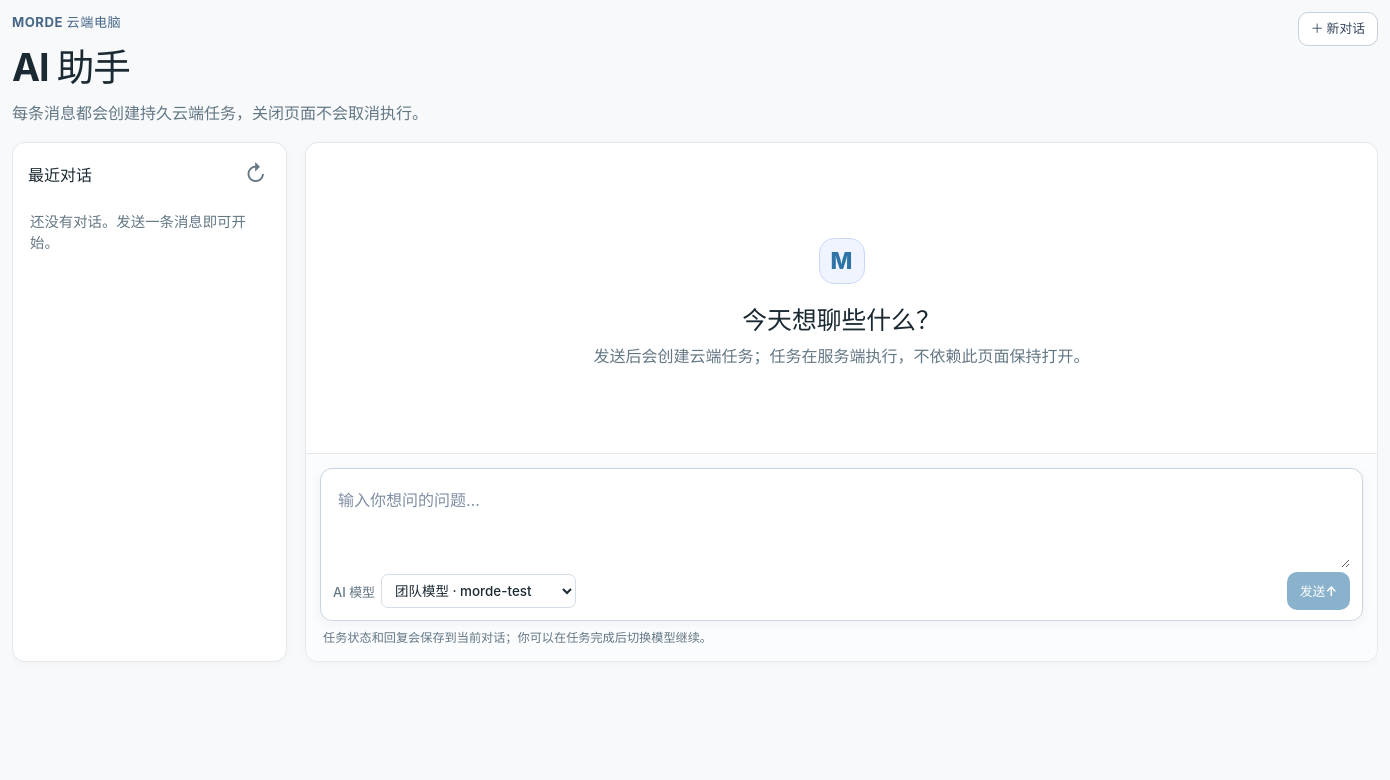
Test case: Assistant durable tasks › submits a durable task and displays its saved conversation reply
Type "你好" into the text box named "消息内容" at (842, 524), box [333, 480, 1350, 568]
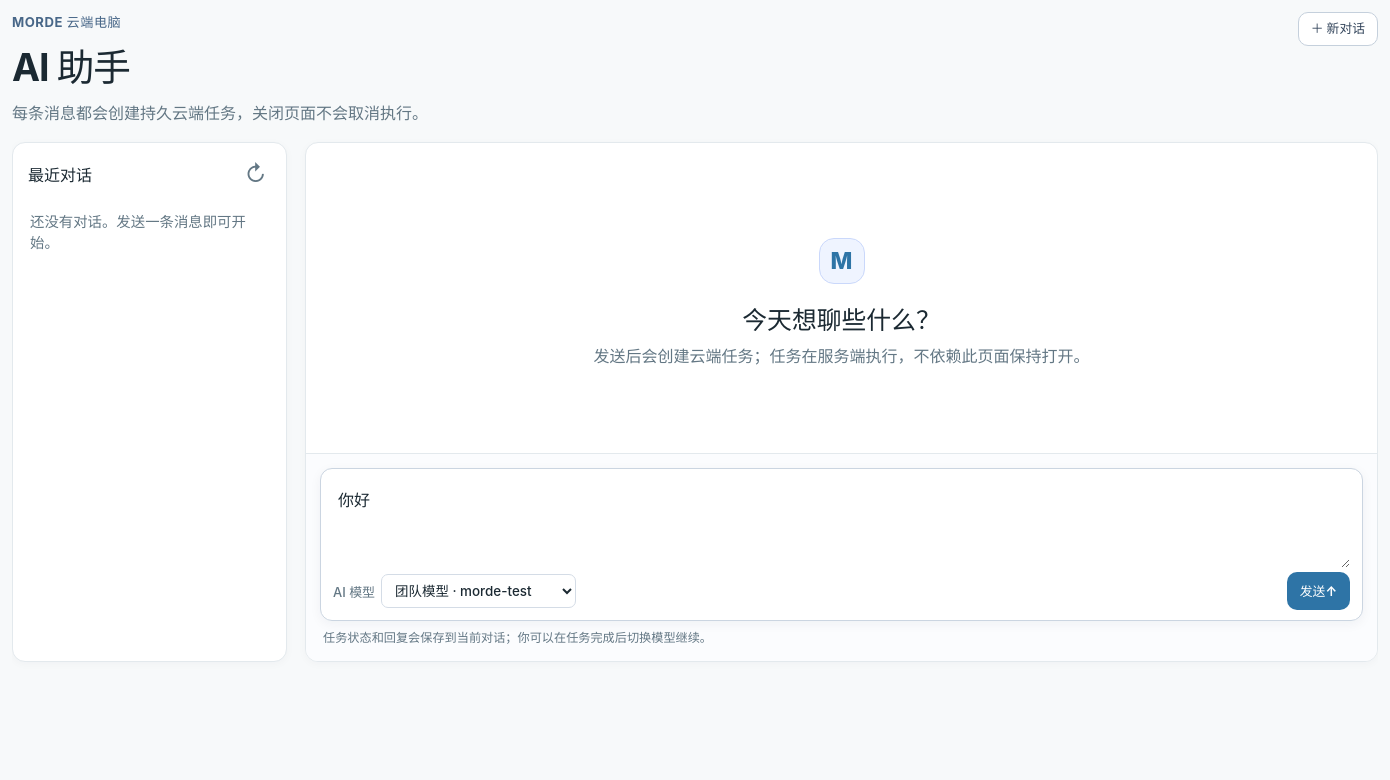
Click the button "发送 ↑" at (1318, 591), box [1287, 572, 1350, 610]
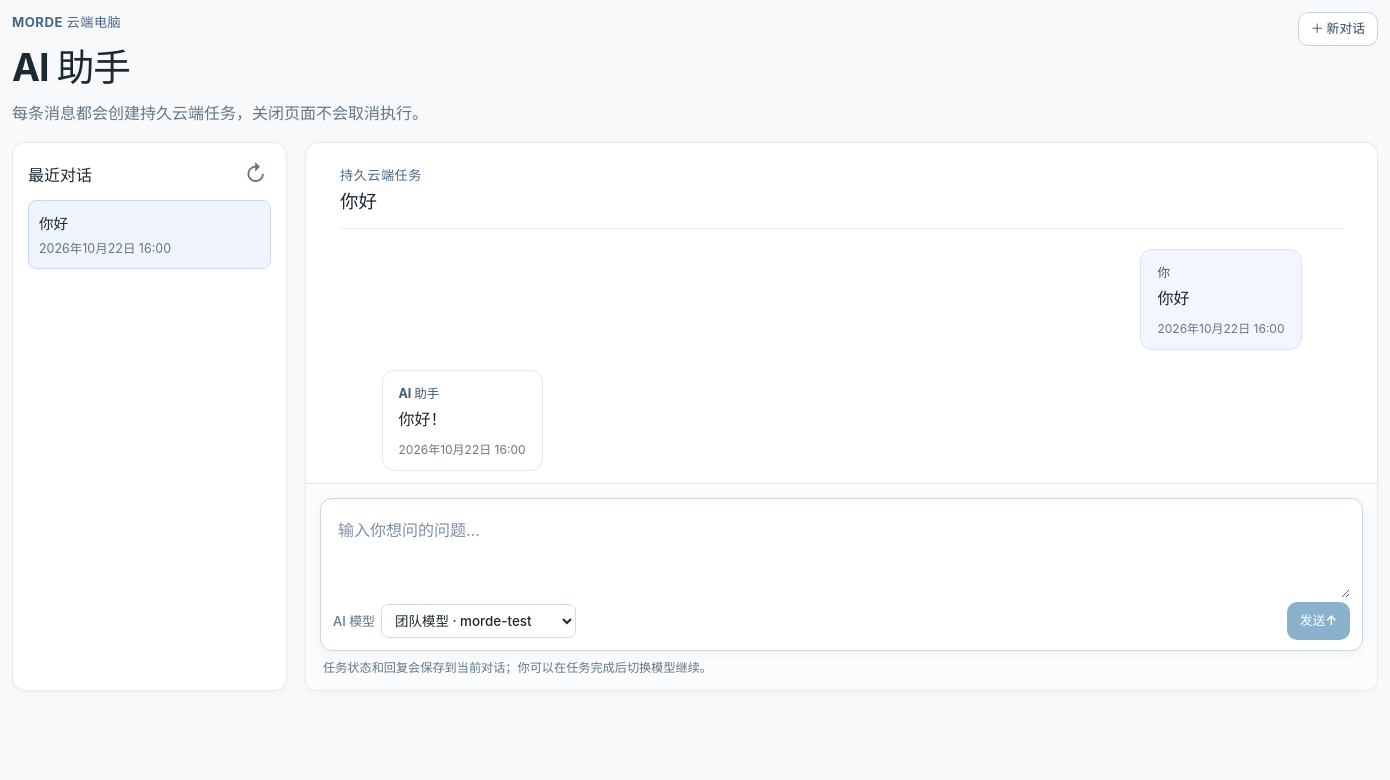
Expected: the text "你好！" is shown, [398, 409, 446, 429]
